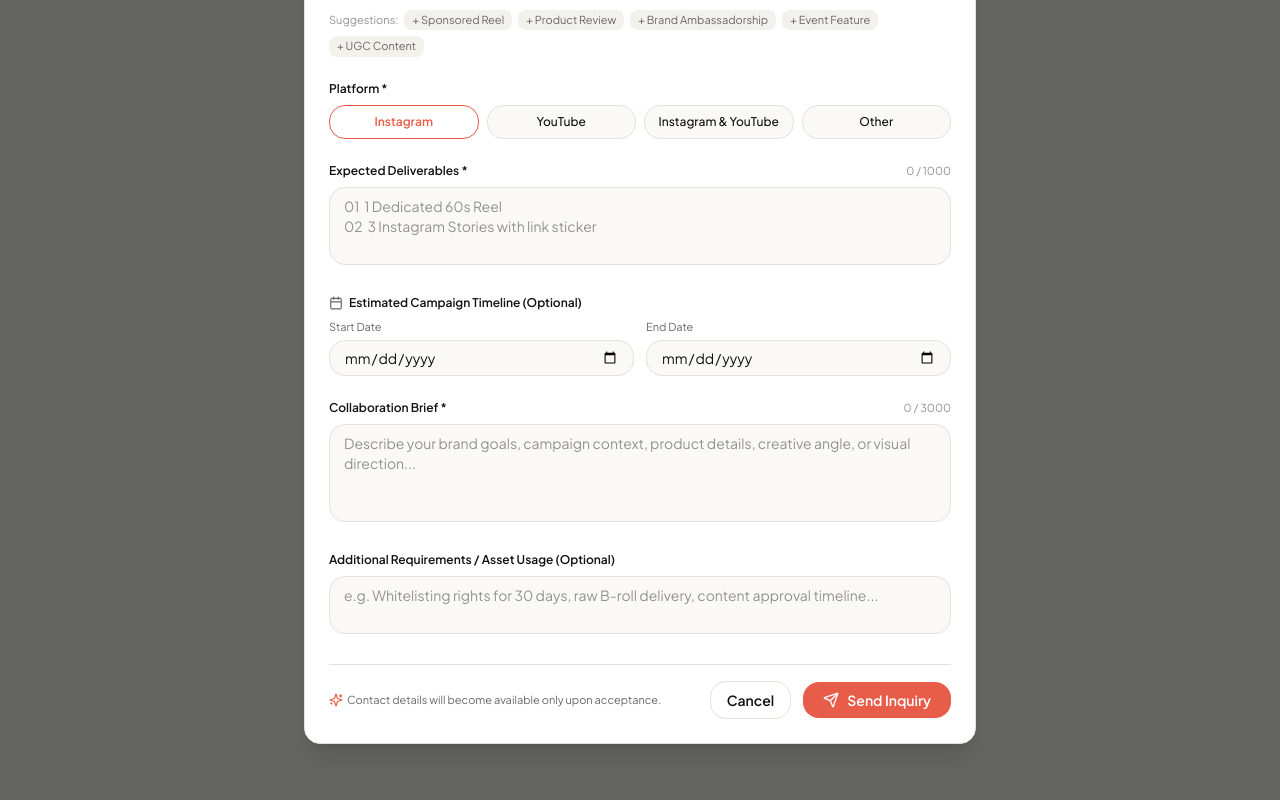
Test: Phase 18 Part 1 — Modal & Dialog Accessibility Hardening › InquiryFormModal Accessibility › 9. clears aria-invalid and aria-describedby when field is corrected
(page scrolled)
Click the button "Send Inquiry". click: (877, 700)
box: x1=803 y1=682 x2=951 y2=718
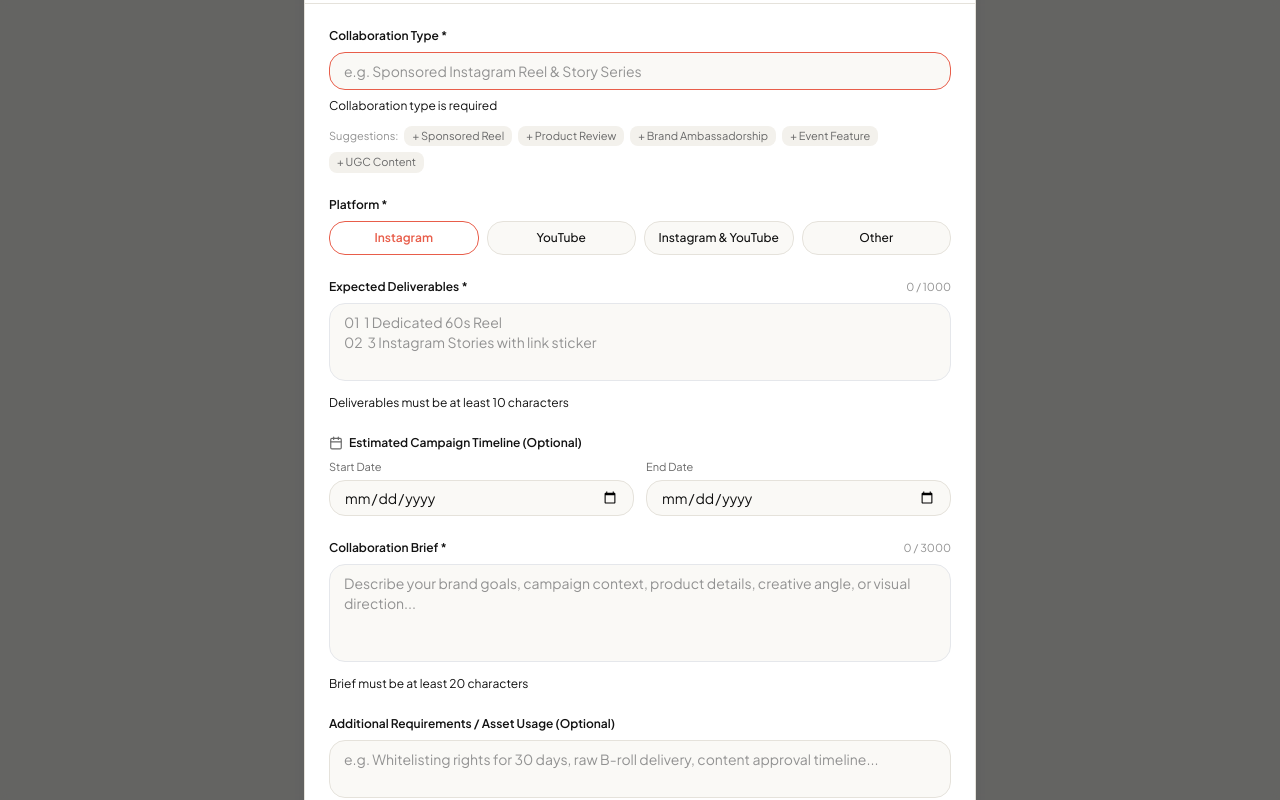
Click preset to populate collaboration type
Click the button "+ Sponsored Reel". click: (458, 136)
box: x1=404 y1=126 x2=512 y2=146
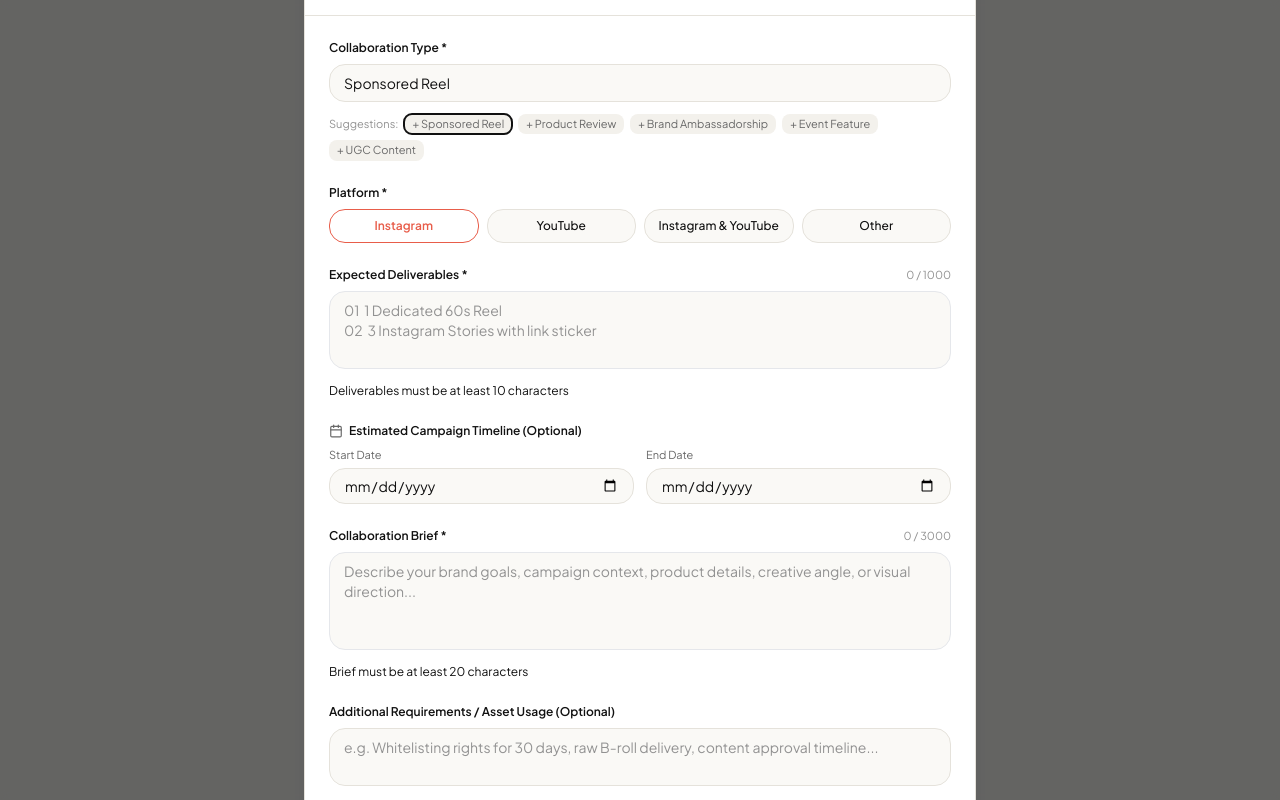
Expected: the message with id "collaborationType-error" is gone
